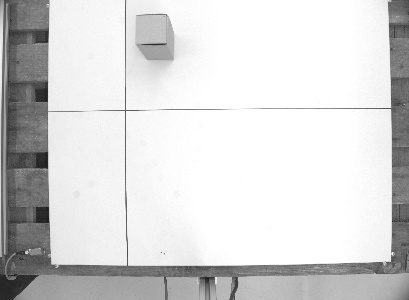b2: (132, 11, 177, 62)
